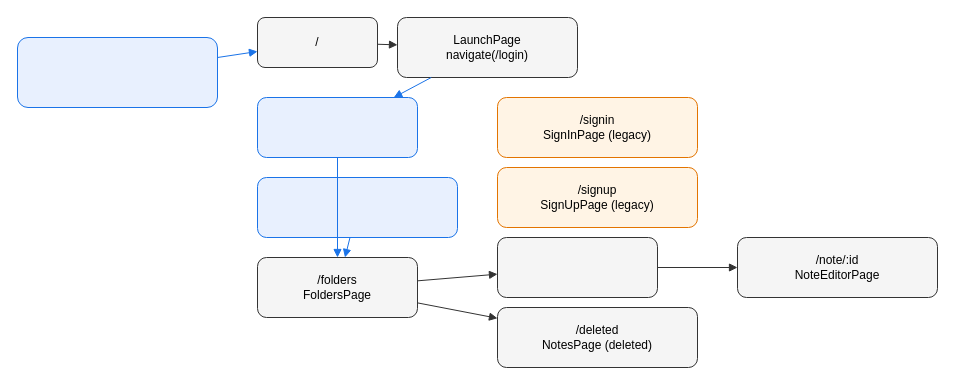
The diagram is 955 pixels wide and 385 high, and some of its shapes have lost their labels. Here are the shapes that lost their labels. From the top down, the centre of each, then its label:
the point at 117,72: App.jsx BrowserRouter + Routes
the point at 337,127: /login LogInPage
the point at 357,207: /register RegistrationPage
the point at 577,267: /notes NotesPage
